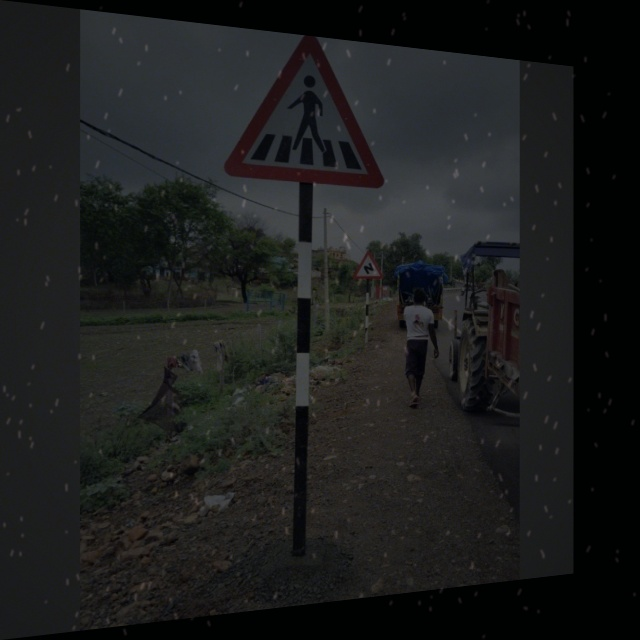Pedestrian_Crossing: (224, 29, 383, 186)
